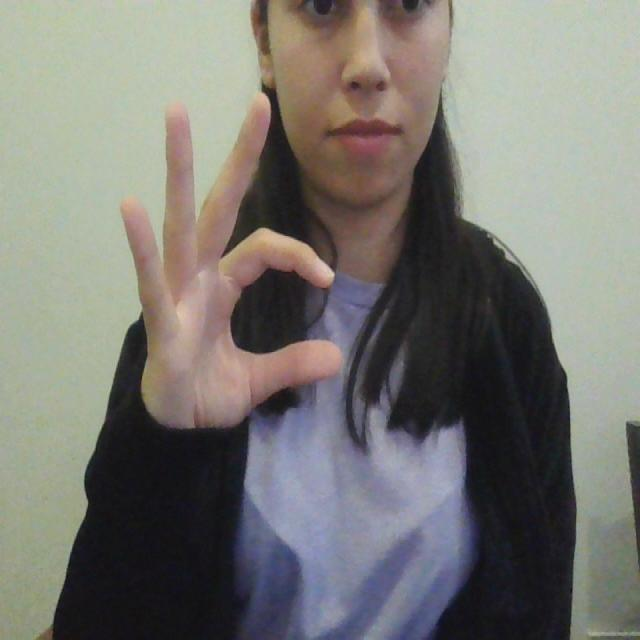Tuvalet: (71, 87, 352, 453)
